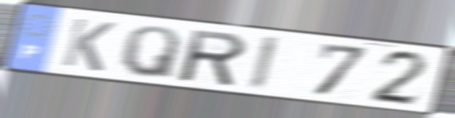2: (368, 50, 434, 108)
7: (315, 41, 373, 99)
I: (246, 33, 283, 93)
K: (58, 16, 118, 74)
Q: (117, 24, 184, 82)
R: (179, 27, 249, 89)
